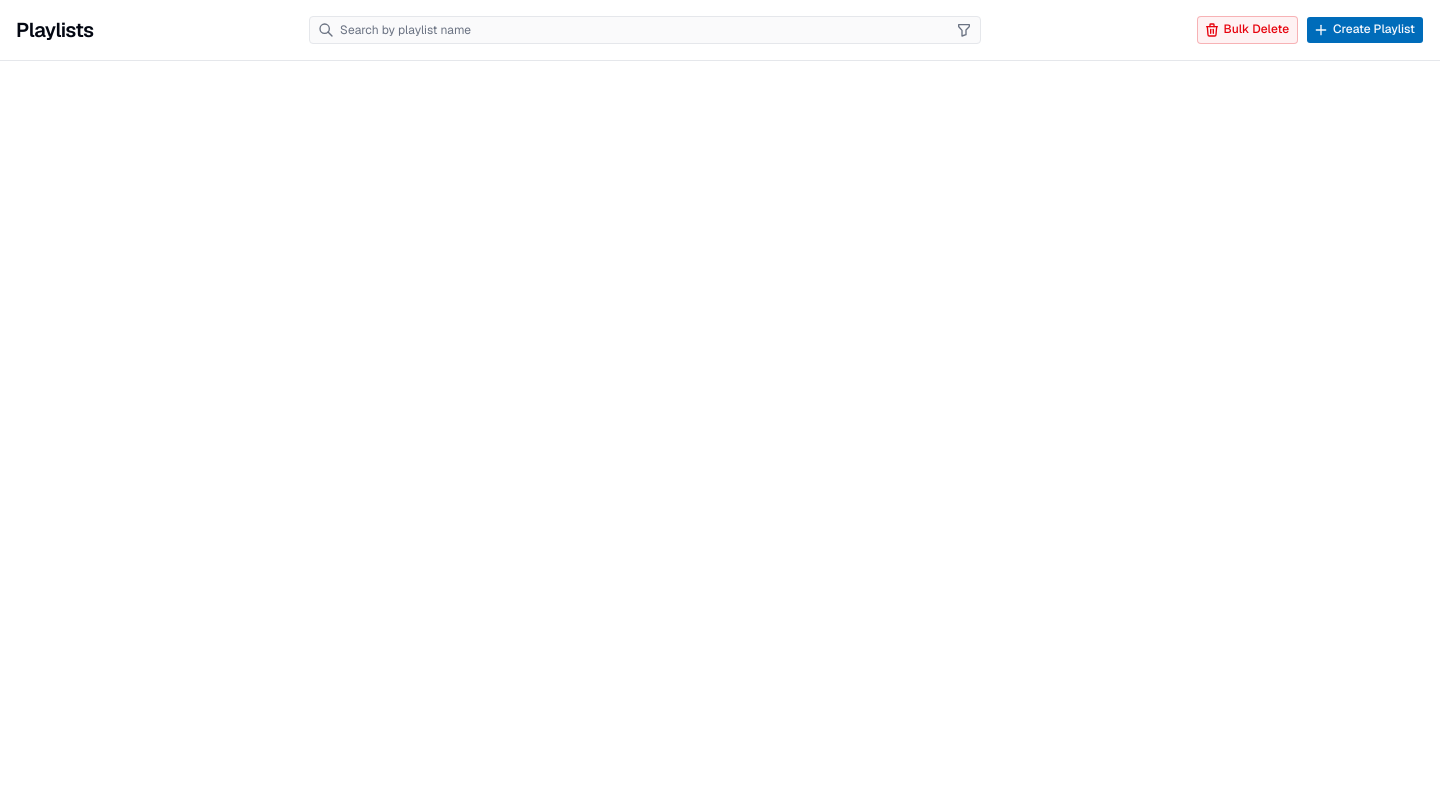
Test case: PlaylistsToolbar › opens filters from the merged search control
Click the button named "Filter playlists": x=964, y=30 [952,18,976,42]
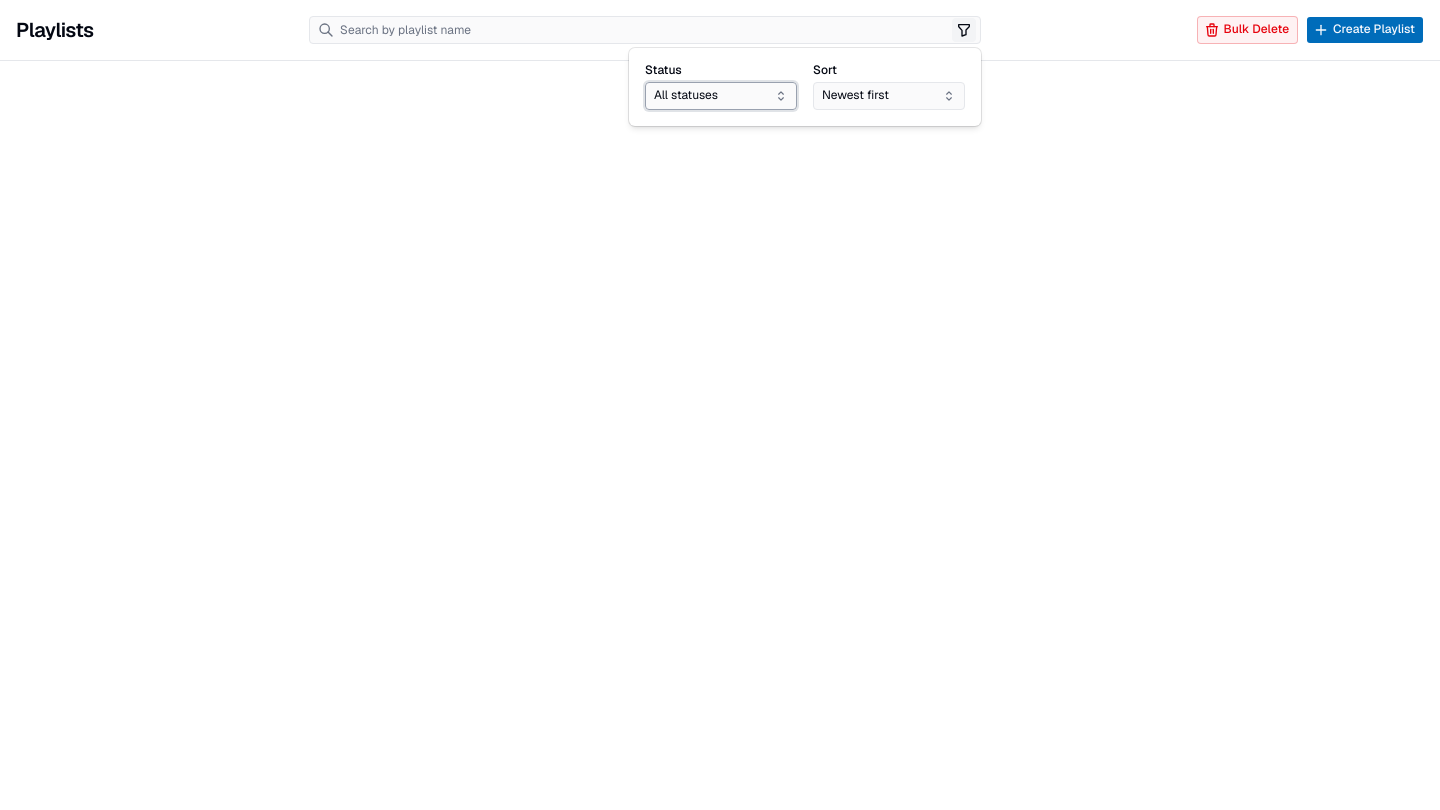
Expected: the dialog named "Playlist filters" is shown, [629,48,981,126]
Expected: the dropdown labelled "status" is shown, [645,82,797,110]
Expected: the dropdown named "Sort" is shown, [813,82,965,110]
